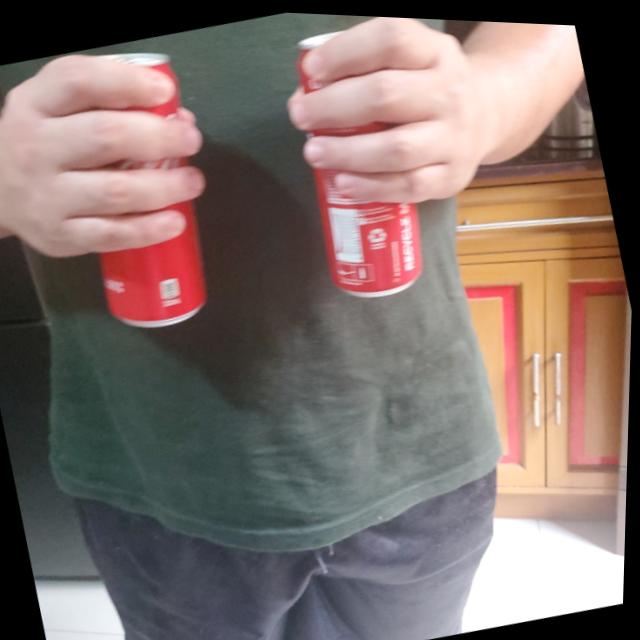coke: (51, 42, 228, 335), (277, 15, 436, 301)
